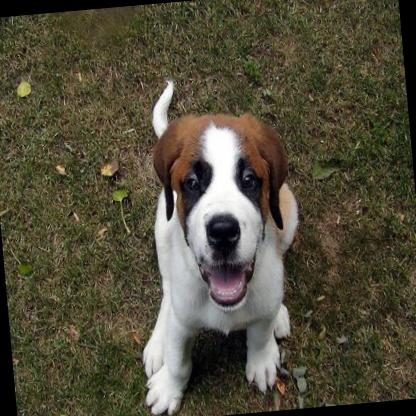Saint_Bernard: (116, 68, 314, 416)
